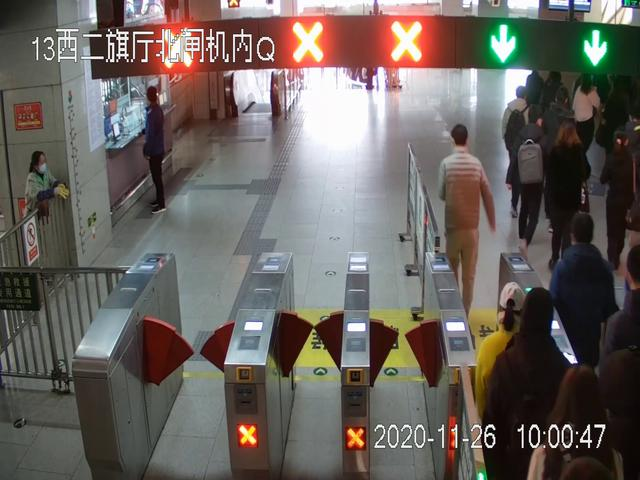person: (483, 287, 578, 480), (437, 125, 497, 320), (549, 213, 617, 381), (550, 118, 589, 271), (508, 104, 545, 259), (602, 131, 639, 267), (24, 151, 58, 267), (141, 85, 171, 215)
